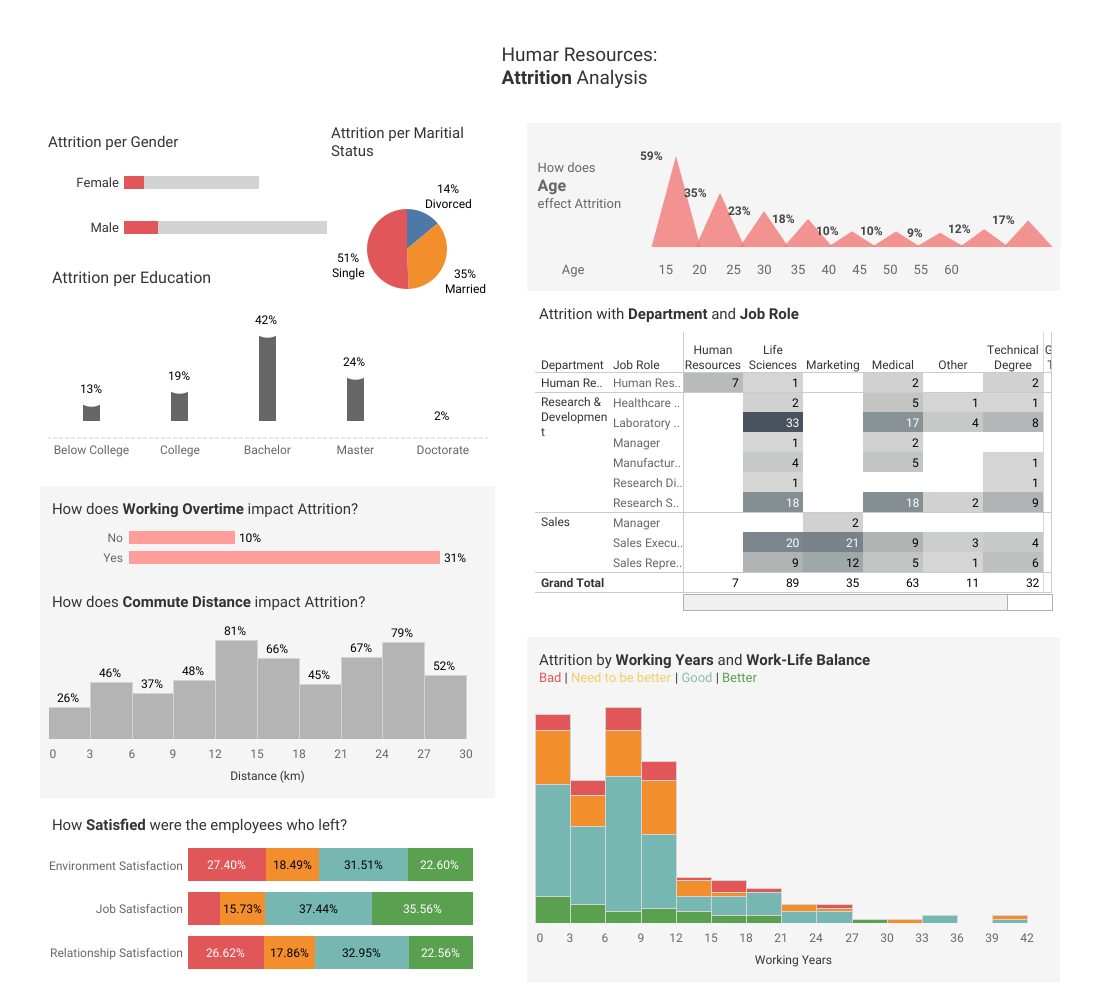

What the dashboard file says about the page in this screenshot:
{"tool":"tableau","page":{"name":"HR attrition Dashboard","canvas":[1100,990],"ordinal":0},"visuals":[{"type":"blank","box":[8,8,358,115]},{"type":"image","box":[366,8,129,115]},{"type":"text","box":[495,8,597,115]},{"type":"worksheet","title":"Maritial","mark":"Pie","box":[327,118,189,217]},{"type":"blank","box":[8,123,32,859]},{"type":"worksheet","title":"Gender","mark":"Automatic","rows":["Gender"],"cols":["HR-Employee-Attrition_E3F79BCC9D704298B131C95F69DF071E"],"box":[40,123,301.3,131]},{"type":"blank","box":[341.3,123,153.3,131]},{"type":"blank","box":[494.6,123,32.4,859]},{"type":"text","box":[527,123,105,124]},{"type":"worksheet","title":"Triangle Chart","mark":"Polygon","rows":["Age Bin Attrition (copy)_597852871179591700"],"box":[632,123,428,124]},{"type":"blank","box":[1060,123,32,859]},{"type":"text","box":[527,247,533,44]},{"type":"worksheet","title":"Education","mark":"Bar","rows":["HR-Employee-Attrition_E3F79BCC9D704298B131C95F69DF071E","HR-Employee-Attrition_E3F79BCC9D704298B131C95F69DF071E"],"cols":["Calculation_1140536625802448898"],"box":[40,254,454.6,232]},{"type":"worksheet","title":"Department","mark":"Square","rows":["Department","JobRole"],"cols":["EducationField"],"box":[527,291,533,346]},{"type":"worksheet","title":"Overtime","mark":"Automatic","rows":["OverTime"],"cols":["Calculation_1140536625809457158"],"box":[40,486,454.6,93]},{"type":"worksheet","title":"Commute","mark":"Automatic","rows":["Over Time Attrition (copy)_1140536625811054599"],"cols":["Distance From Home (bin)"],"box":[40,579,454.6,219]},{"type":"worksheet","title":"Working Years","mark":"Automatic","rows":["Calculation_1140536625807855620"],"cols":["Total Working Years (bin)"],"box":[527,637,533,345]},{"type":"worksheet","title":"Satisfied","mark":"Automatic","box":[40,798,454.6,184]}]}

Visuals, with their boxes in screenshot pixels (x1, y1, x2, y2), scaled from the page's 1100x990 canvas onto the 1099x989 screenshot:
blank: Rect(8, 8, 366, 123)
image: Rect(366, 8, 495, 123)
text: Rect(495, 8, 1091, 123)
"Maritial" worksheet (Pie marks): Rect(327, 118, 516, 335)
blank: Rect(8, 123, 40, 981)
"Gender" worksheet: Rect(40, 123, 341, 254)
blank: Rect(341, 123, 494, 254)
blank: Rect(494, 123, 527, 981)
text: Rect(527, 123, 631, 247)
"Triangle Chart" worksheet (Polygon marks): Rect(631, 123, 1059, 247)
blank: Rect(1059, 123, 1091, 981)
text: Rect(527, 247, 1059, 291)
"Education" worksheet (Bar marks): Rect(40, 254, 494, 486)
"Department" worksheet (Square marks): Rect(527, 291, 1059, 636)
"Overtime" worksheet: Rect(40, 486, 494, 578)
"Commute" worksheet: Rect(40, 578, 494, 797)
"Working Years" worksheet: Rect(527, 636, 1059, 981)
"Satisfied" worksheet: Rect(40, 797, 494, 981)
